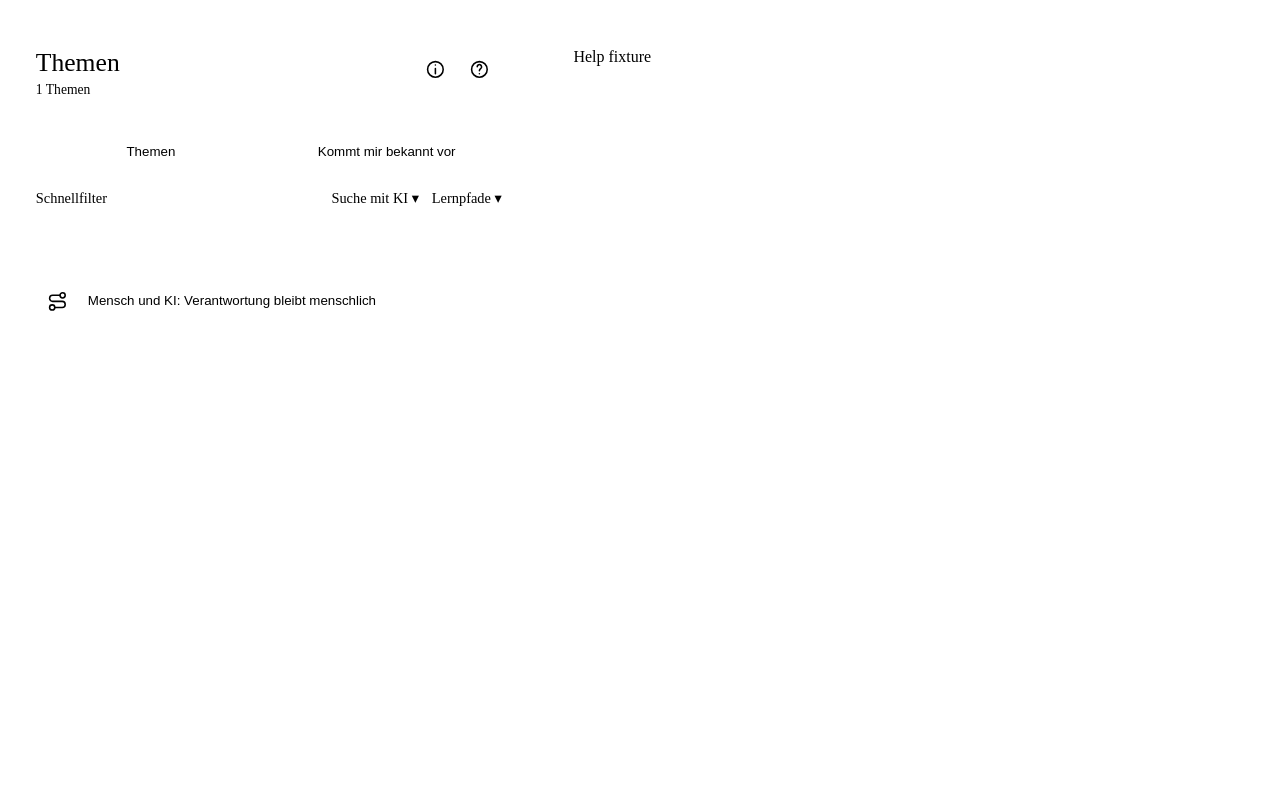
Scenario: TopicBrowser › marks German source titles without changing the link
Click the button "Mensch und KI: Verantwortung bleibt menschlich" at (292, 301), box [82,273,502,329]
(page scrolled)
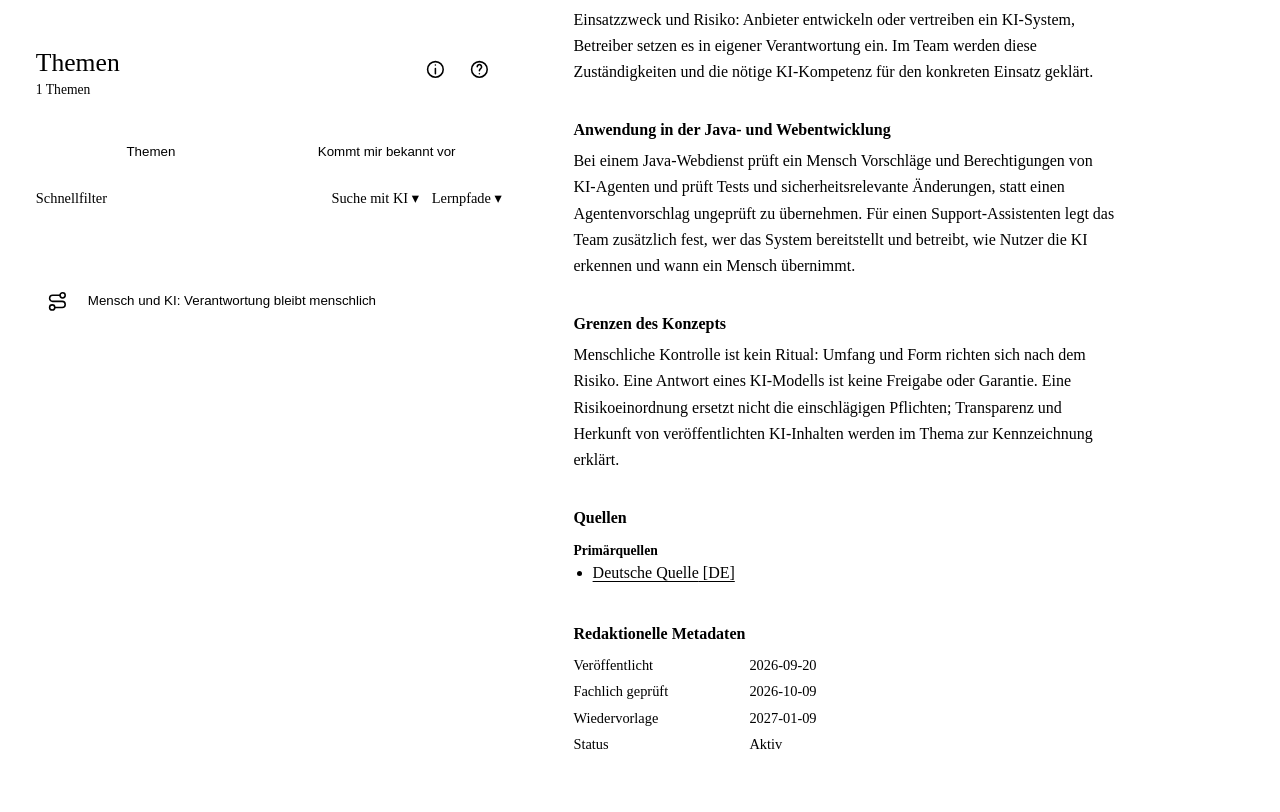
Check: the link "Deutsche Quelle [DE]" is shown, box [593,564,735,581]
